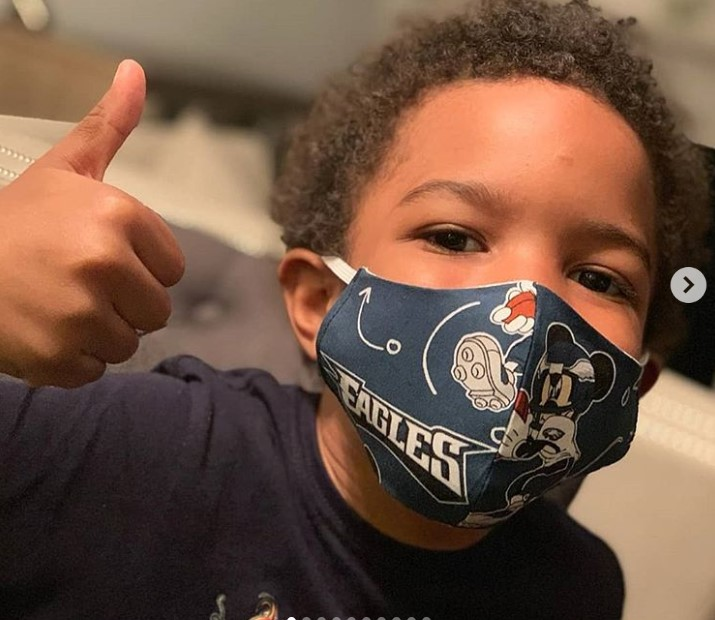face_with_mask: (279, 11, 691, 530)
